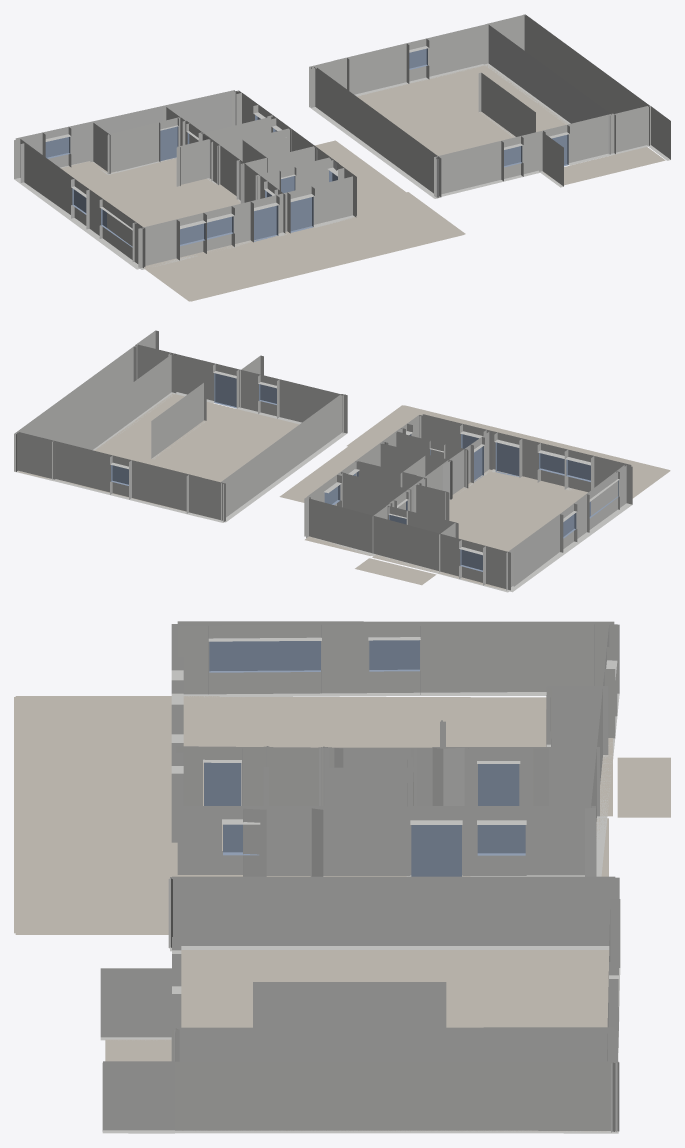
The model's file is plan2scene_vector_house.glb.
3 renders of one model, top to bottom at view 1: azimuth 30°, elevation 25°; view 2: azimuth 150°, elevation 25°; view 3: azimuth 270°, elevation 25°, orthographic. The views are drawn at different scales.
Visible parts, largest first — view 1: walls, floor, doors_windows; view 2: walls, floor, doors_windows; view 3: walls, floor, doors_windows.
Part boxes in pixels (x1=…): walls: x1=14, y1=14, x2=670, y2=269; floor: x1=61, y1=64, x2=665, y2=301; doors_windows: x1=45, y1=48, x2=568, y2=247; walls: x1=14, y1=330, x2=632, y2=592; floor: x1=18, y1=393, x2=670, y2=589; doors_windows: x1=111, y1=373, x2=618, y2=571; walls: x1=100, y1=621, x2=620, y2=1133; floor: x1=14, y1=696, x2=670, y2=1131; doors_windows: x1=204, y1=640, x2=525, y2=876.
Size of the model in its own units: 3580 by 260 by 2242.
